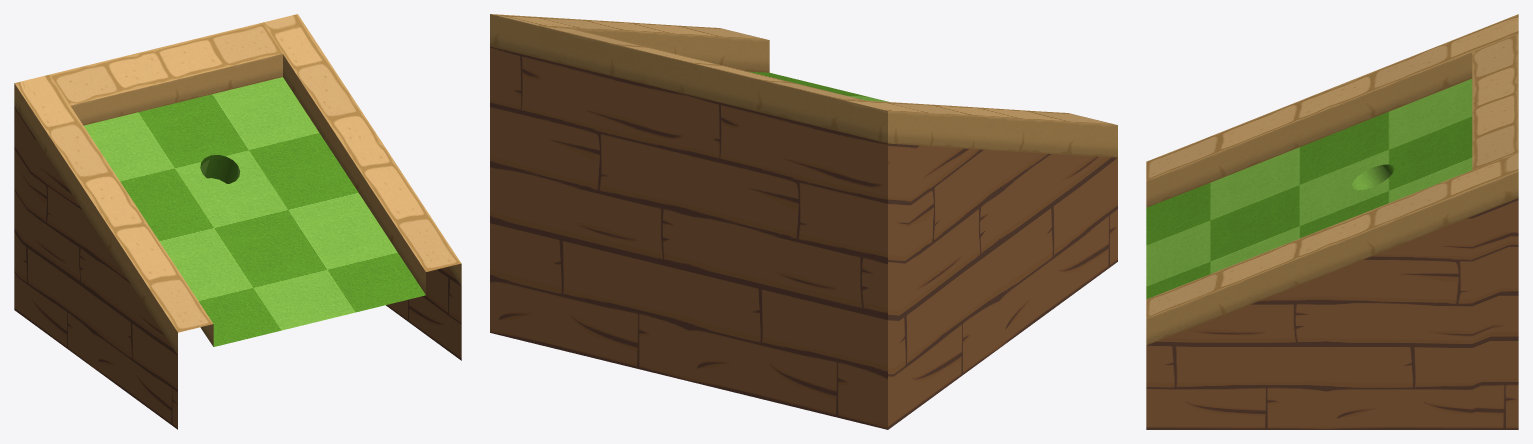
Rendered from tile01.FBX.
The picture shows the model from 3 angles, left to right: view 1: azimuth 30°, elevation 25°; view 2: azimuth 150°, elevation 25°; view 3: azimuth 270°, elevation 25°; orthographic projection. The views are drawn at different scales.
Parts seen in each view (by area): view 1: tile01_walls, tile01_floor, tile01_hole; view 2: tile01_walls, tile01_floor; view 3: tile01_walls, tile01_floor, tile01_hole.
Boxes of the visible parts, x1,y1,x2,y2 form: tile01_walls: (14, 14, 461, 429); tile01_floor: (84, 77, 425, 346); tile01_hole: (200, 155, 240, 184); tile01_walls: (490, 14, 1117, 429); tile01_floor: (749, 71, 888, 101); tile01_walls: (1146, 14, 1518, 429); tile01_floor: (1146, 78, 1472, 299); tile01_hole: (1351, 164, 1394, 189).
Size of the model in its own units: 1280 by 980 by 1280.
